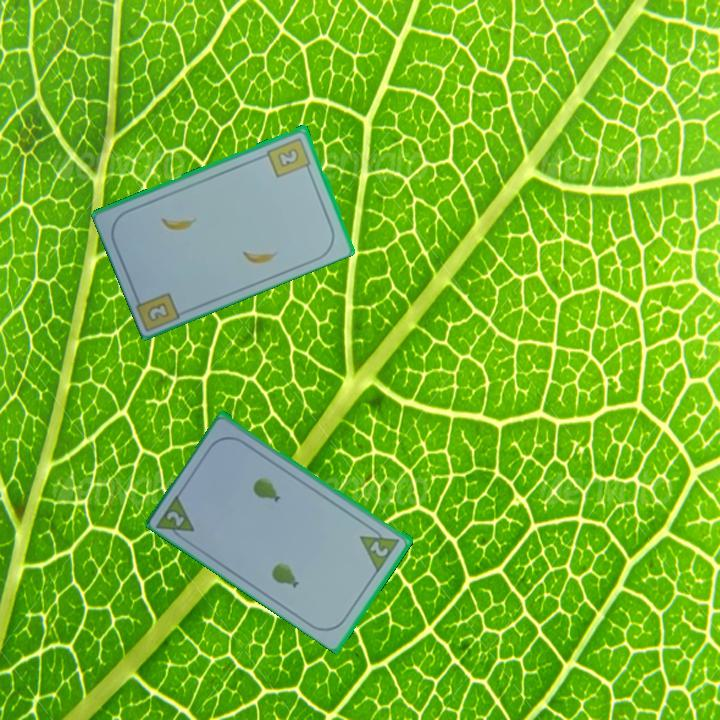2b: (264, 133, 314, 180), (144, 299, 172, 324)
2p: (367, 537, 392, 560), (163, 507, 188, 530)
